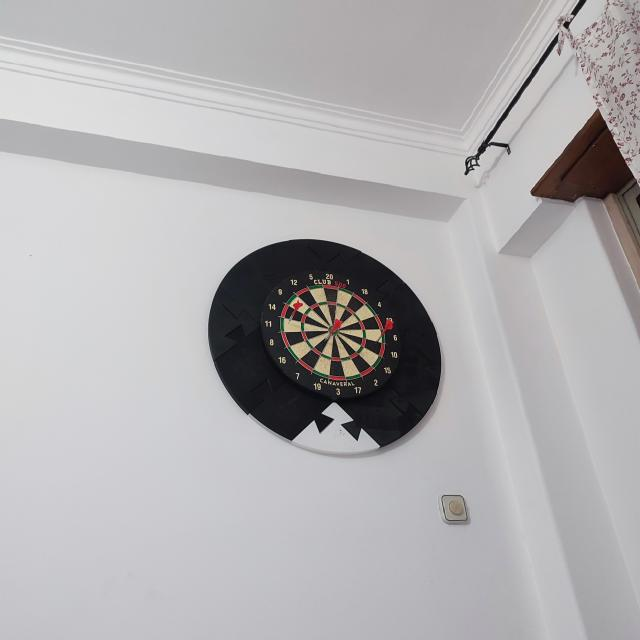dart: (374, 320, 394, 344), (375, 319, 394, 344), (324, 319, 343, 342), (324, 318, 342, 342), (288, 299, 303, 324), (288, 300, 303, 324)
